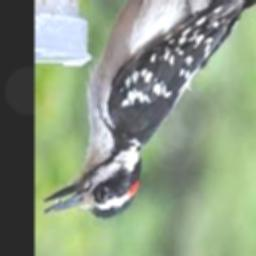Woodpecker: (43, 0, 256, 218)
